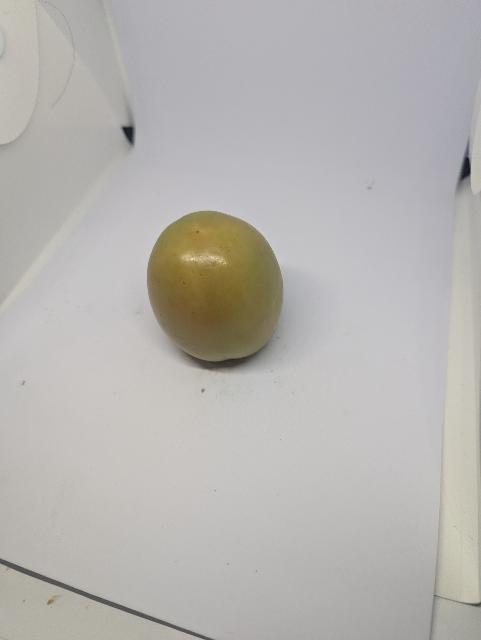breaker: (143, 204, 298, 376)
